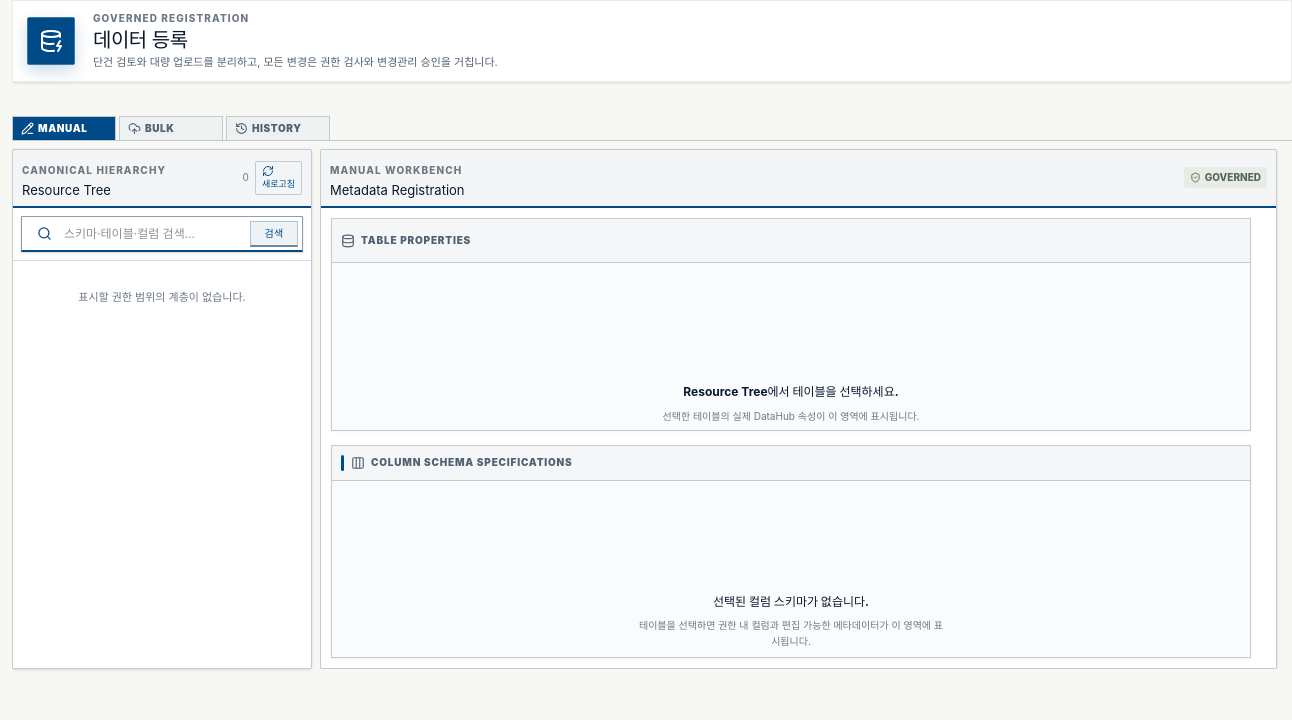
Test: Registration workbench › filters unified recent runs and loads detail only for the selected receipt
The image size is (1292, 720).
Click the tab "HISTORY": point(278, 128) [226,116,330,140]
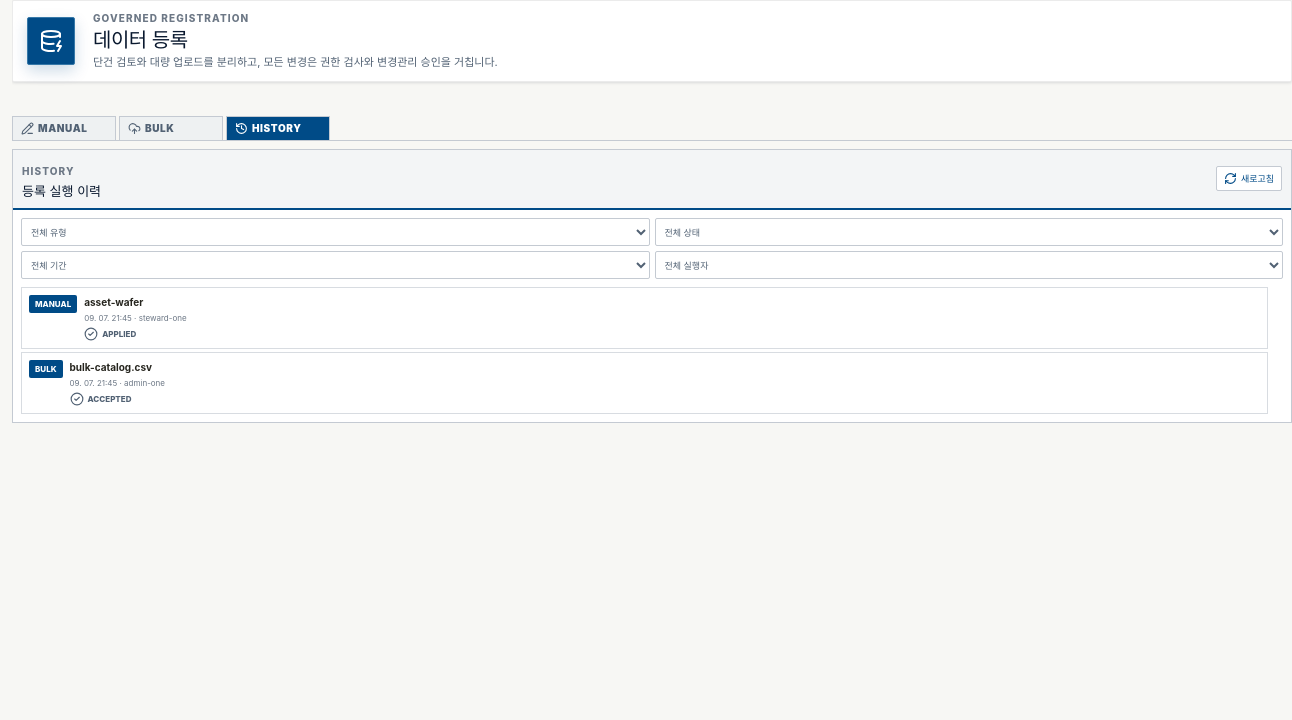
Now the text "asset-wafer" is shown, box [84,296,143,308]
Now the text "bulk-catalog.csv" is shown, box [70,361,152,373]
Select "Manual" in the dropdown named "실행 유형 필터": point(335, 232) [21,218,650,246]
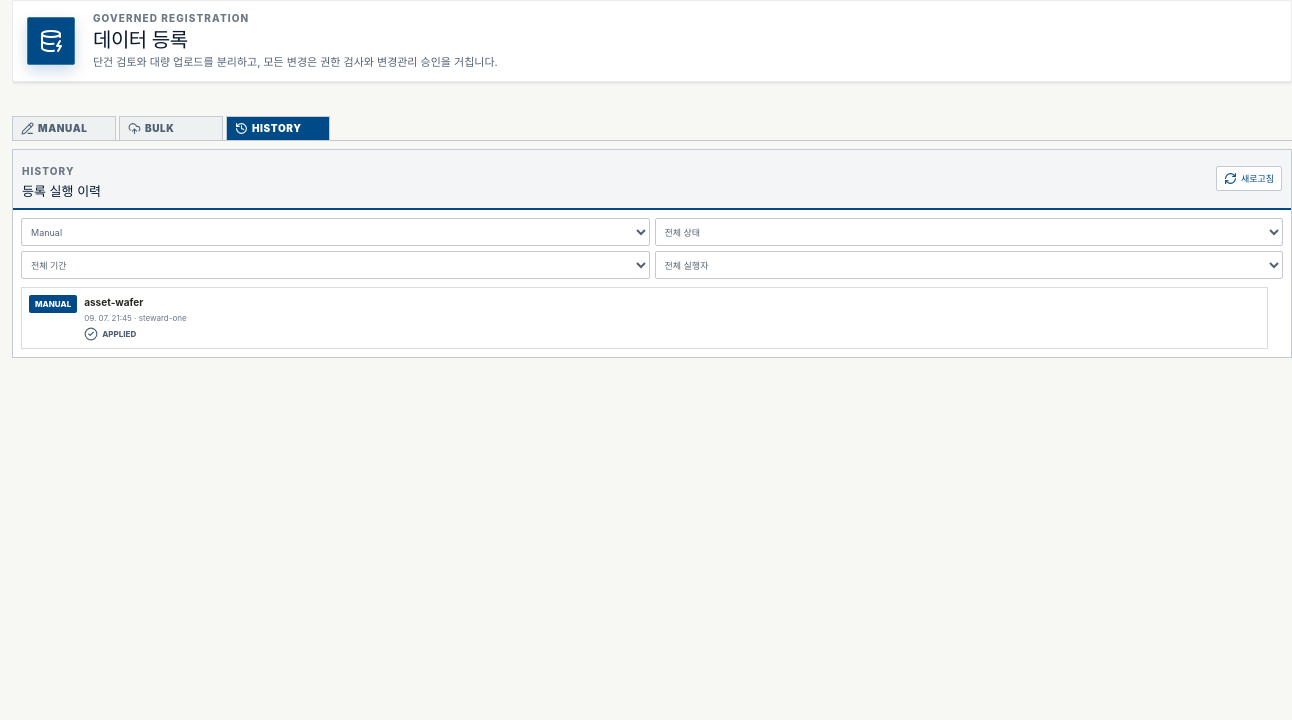
Now the text "asset-wafer" is shown, box [84,296,143,308]
Now the button "bulk-catalog.csv" is gone
Click the button "MANUAL asset-wafer 09. 07. 21:45 · steward-one APPLIED": point(53, 304) [21,287,1268,349]
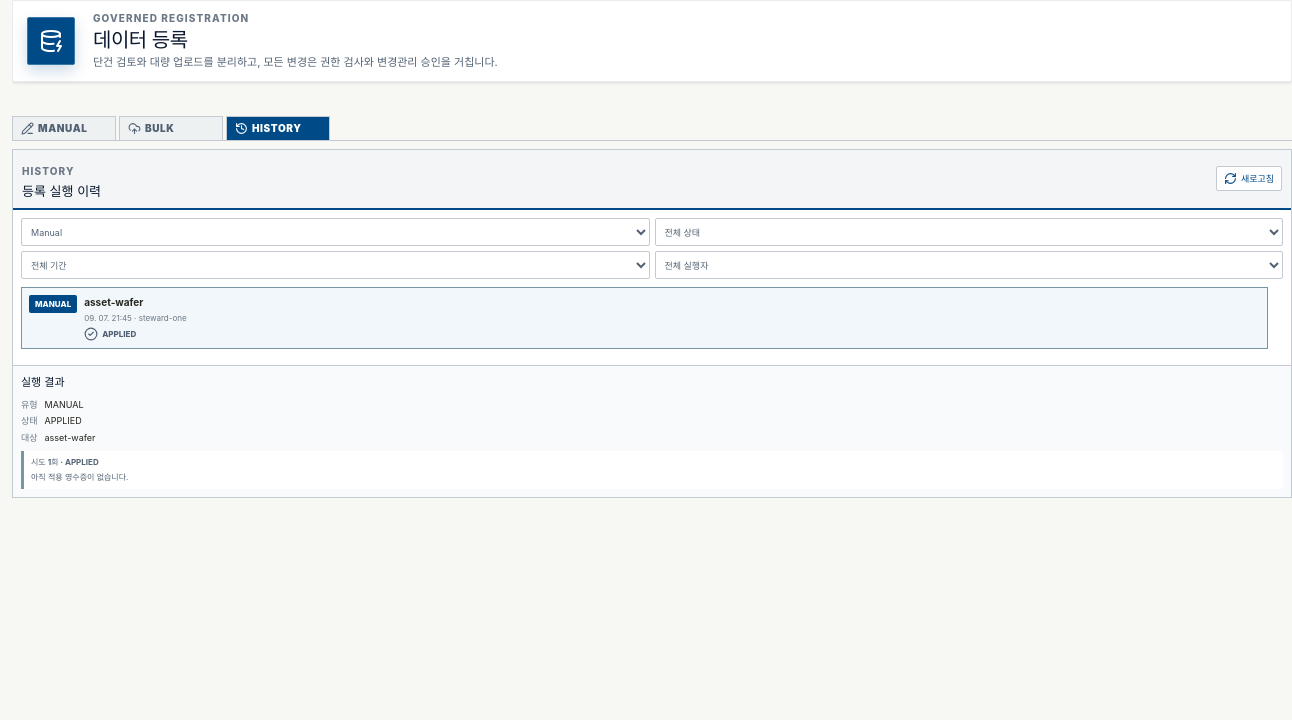
Now the text "아직 적용 영수증이 없습니다." is shown, box [31,472,128,482]
